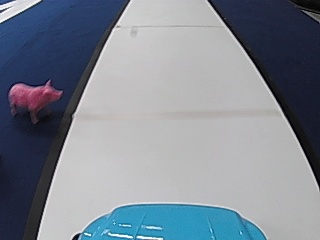pig: (8, 75, 62, 122)
